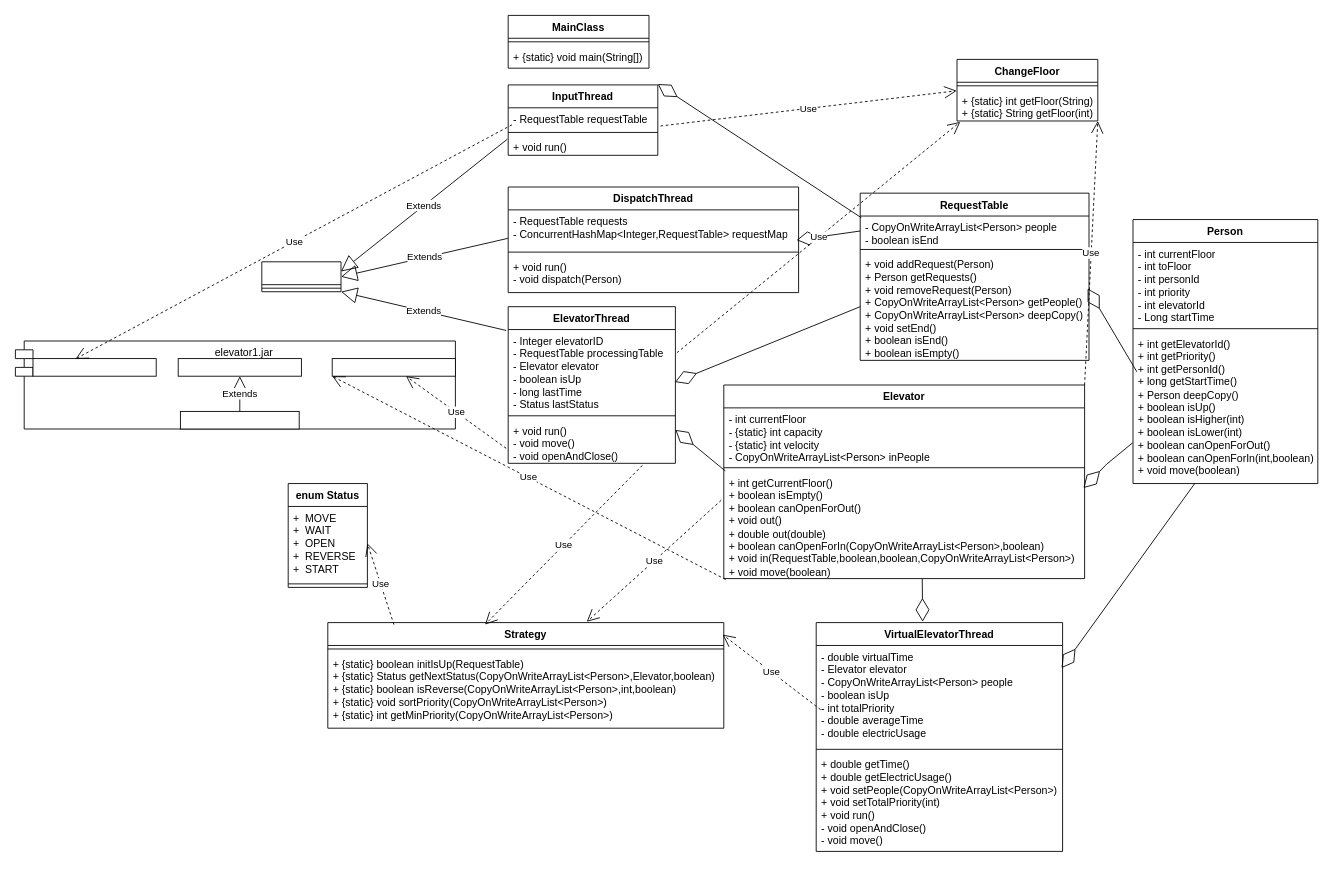
The diagram is 1333 pixels wide and 869 high, and some of its shapes have lost their labels. Each missing label, with the centre of its shape:
"ElevatorInput" belongs at [94,367].
"PersonRequest" belongs at [239,420].
"Request" belongs at [239,367].
"Thread" belongs at [301,276].
"TimableOutput" belongs at [393,367].
